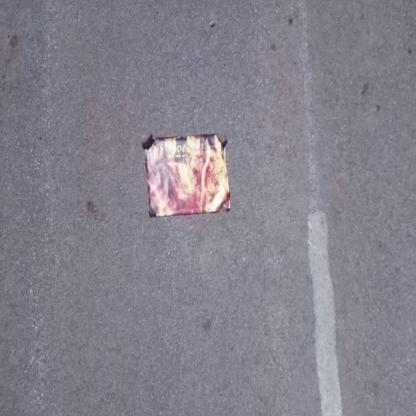fire-poster: (140, 131, 232, 219)
